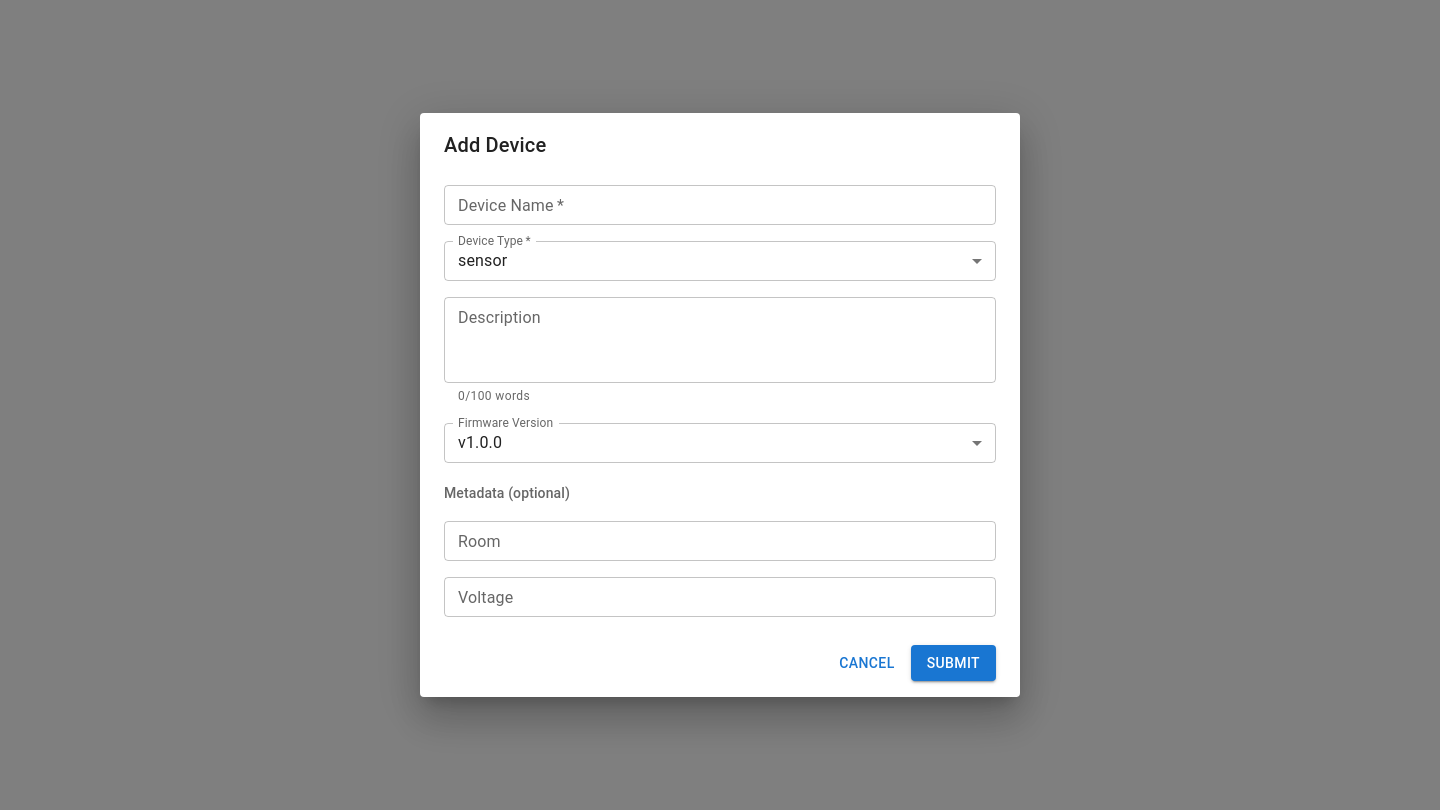
it: FormDevice device type › offers only sensor and actuator
Press the mouse on the dropdown named "Device Type" at {"x": 483, "y": 261}, box [458,251,507,270]
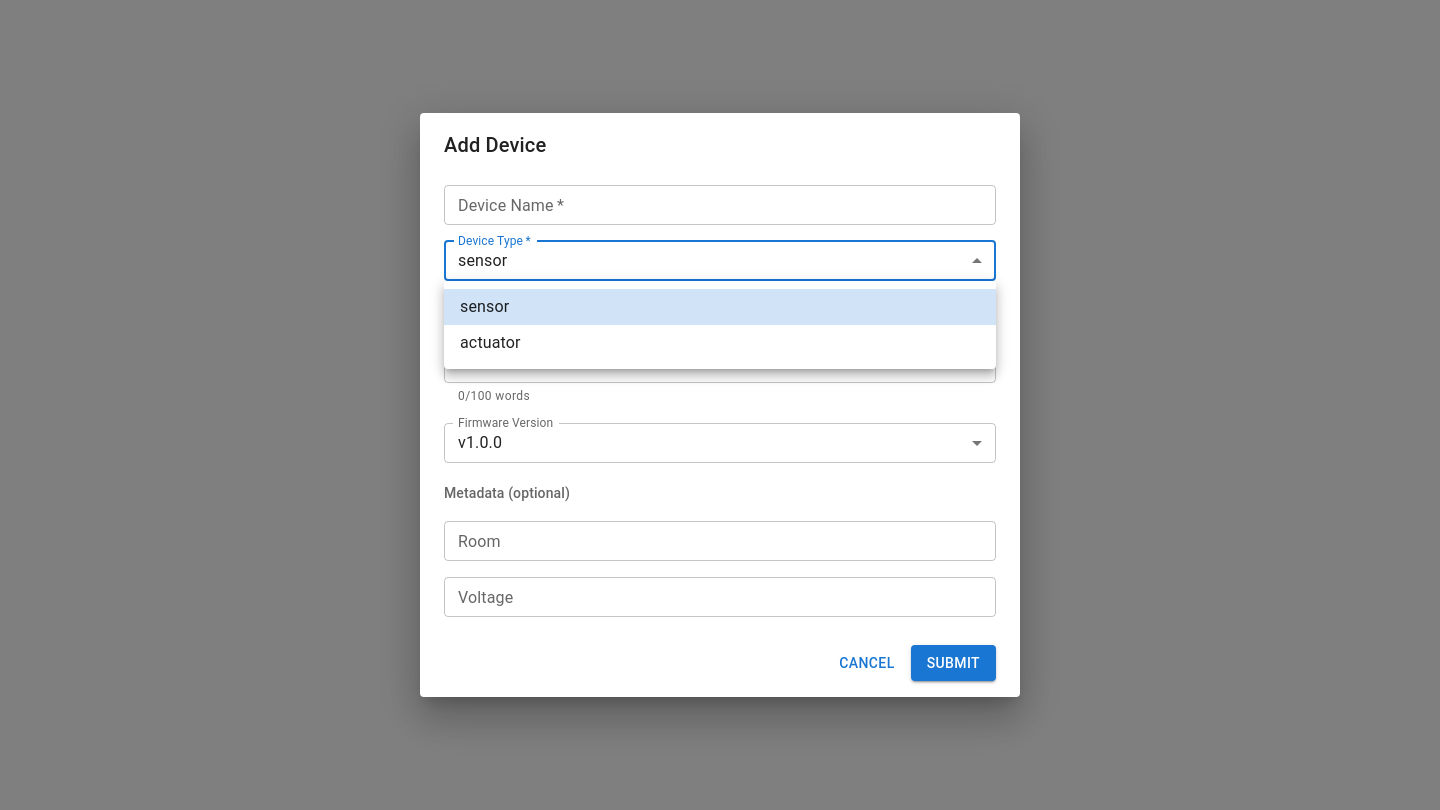
Result: the options read "sensor", "actuator", in this order at [444,289,996,325]; [460,333,521,352]
